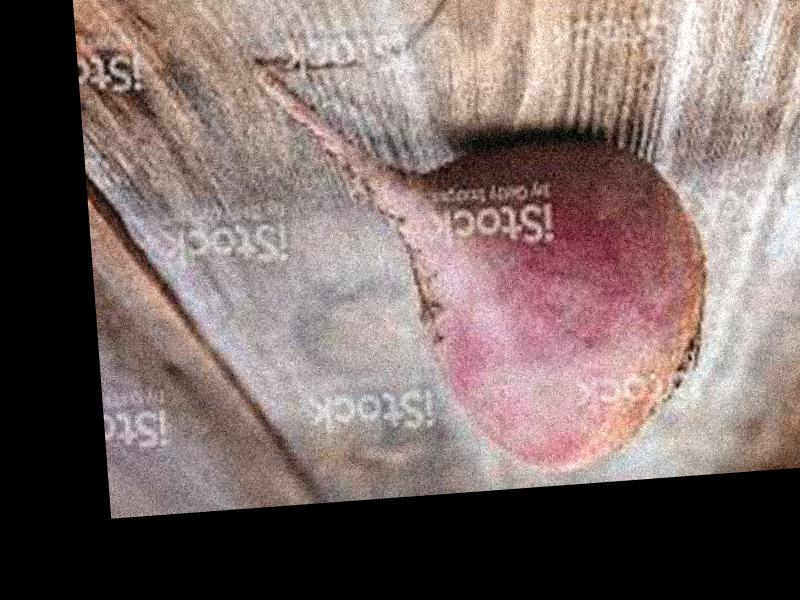Beet: (249, 31, 718, 492)
